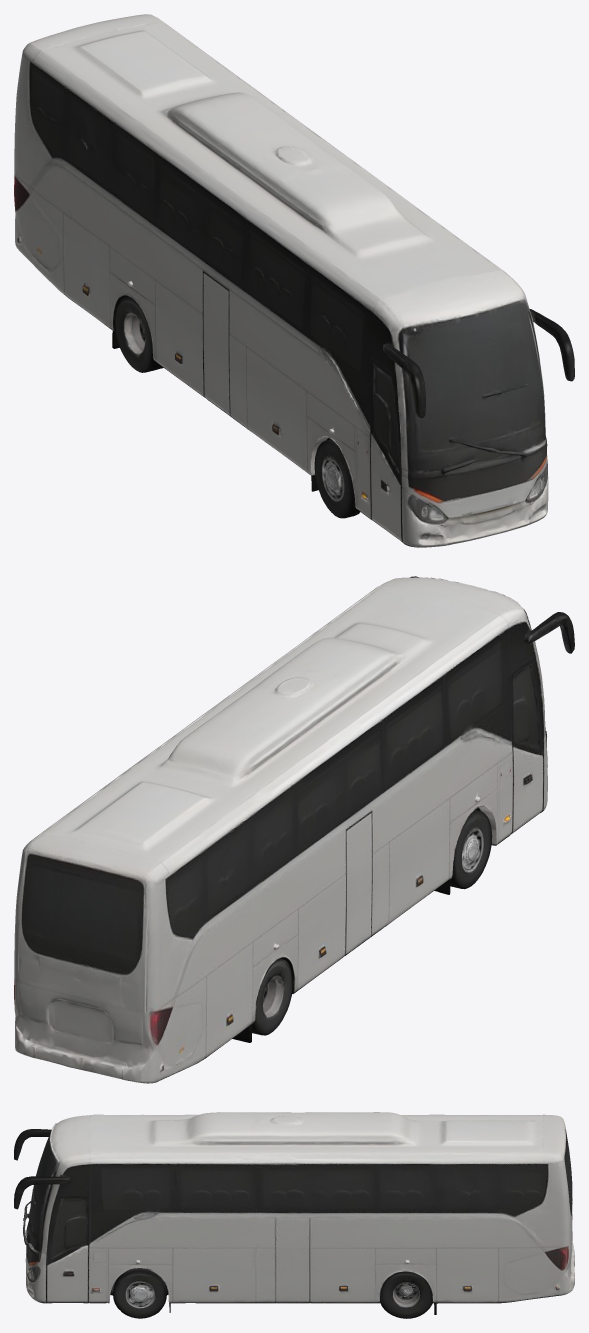
Rendered from onibus_executivo.glb.
3 renders of one model, top to bottom at view 1: azimuth 30°, elevation 25°; view 2: azimuth 150°, elevation 25°; view 3: azimuth 270°, elevation 25°, orthographic. The views are drawn at different scales.
Parts seen in each view (by area): view 1: tripo_node_2cf53162-a300-4b12-a406-415d0d431f74; view 2: tripo_node_2cf53162-a300-4b12-a406-415d0d431f74; view 3: tripo_node_2cf53162-a300-4b12-a406-415d0d431f74.
Boxes of the visible parts, x1,y1,x2,y2 form: tripo_node_2cf53162-a300-4b12-a406-415d0d431f74: (14, 14, 574, 547); tripo_node_2cf53162-a300-4b12-a406-415d0d431f74: (14, 576, 574, 1083); tripo_node_2cf53162-a300-4b12-a406-415d0d431f74: (14, 1112, 574, 1318).
Bounding box in the file's own units: 2.6 × 4.18 × 12.
Materials: 1 (1 with a texture image).
